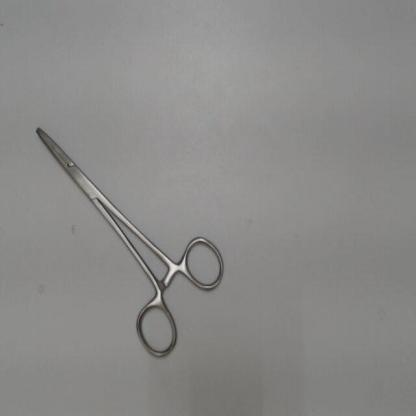Mayo Needle Holder: (23, 112, 229, 366)
